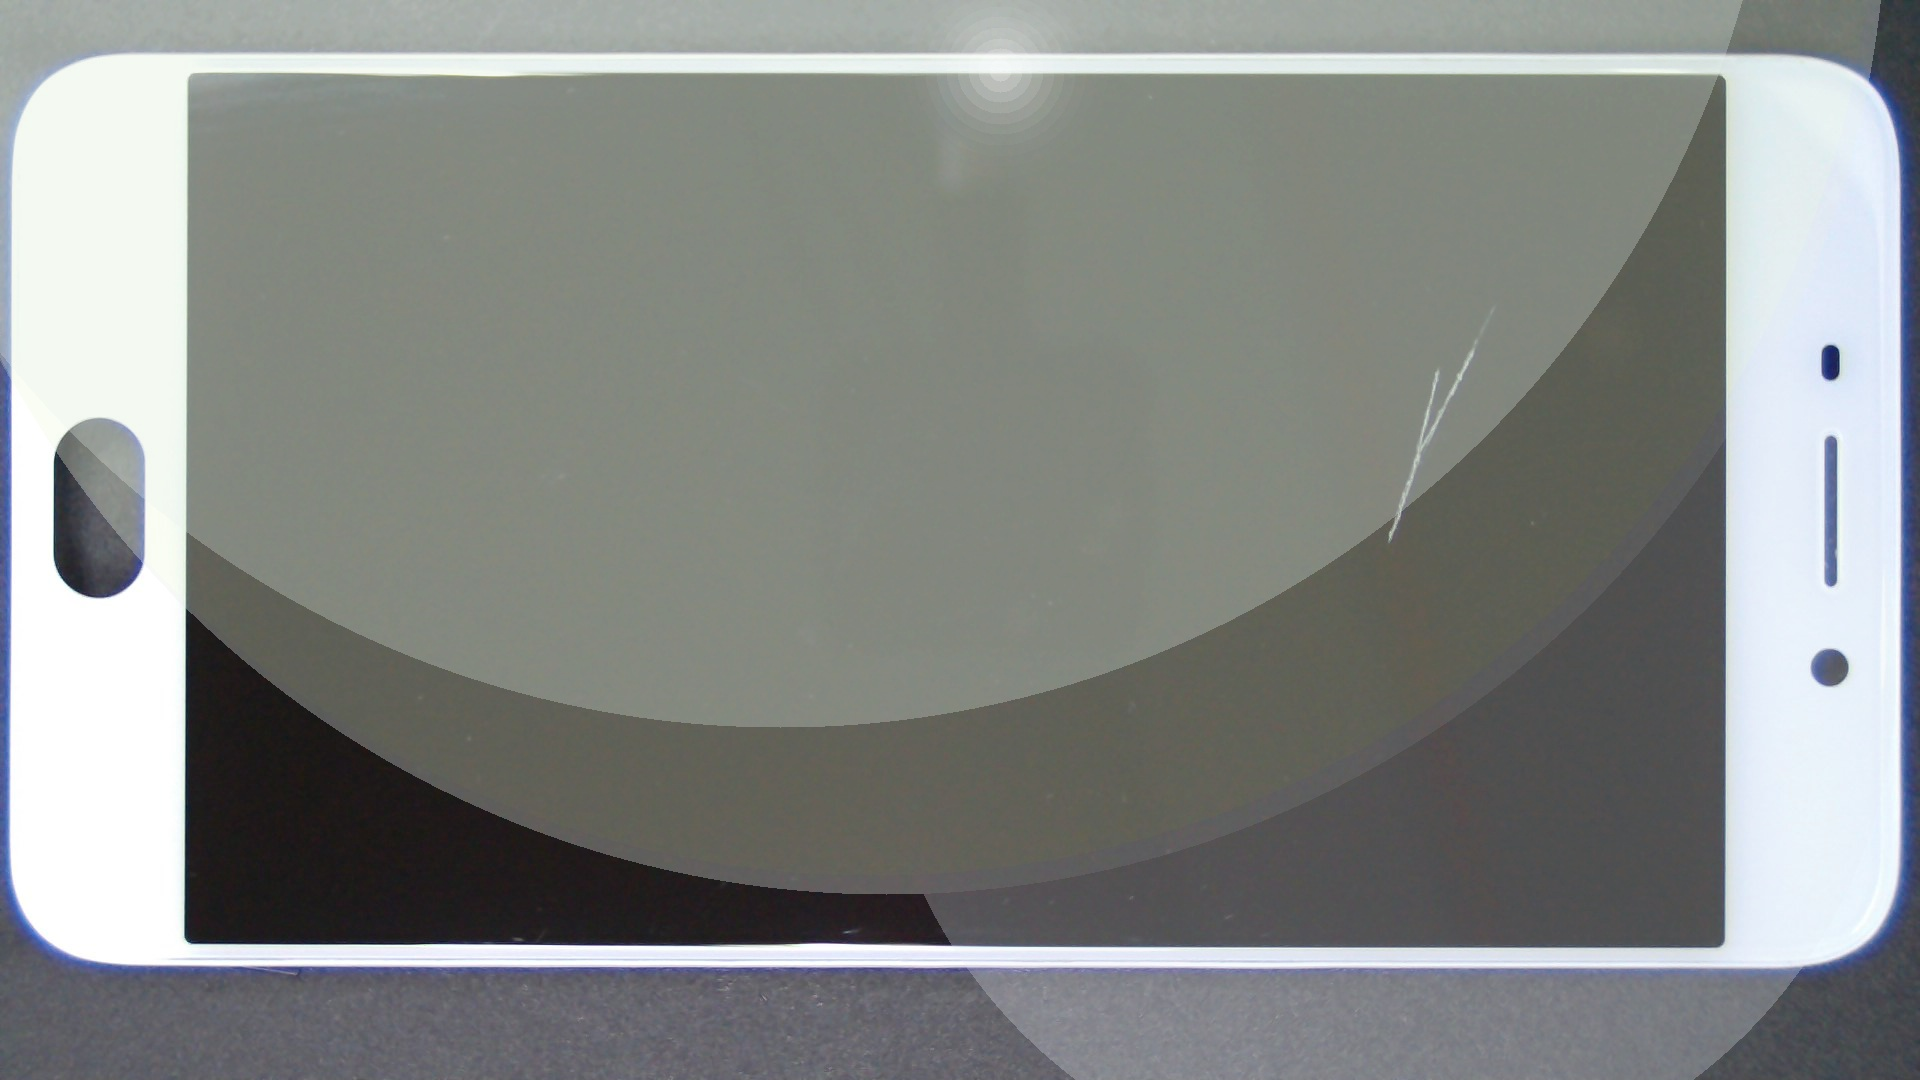oil: (748, 152, 1920, 456)
